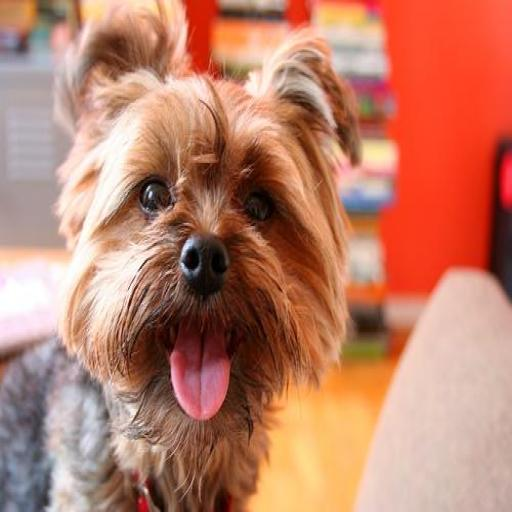dog_face: (60, 20, 354, 449)
